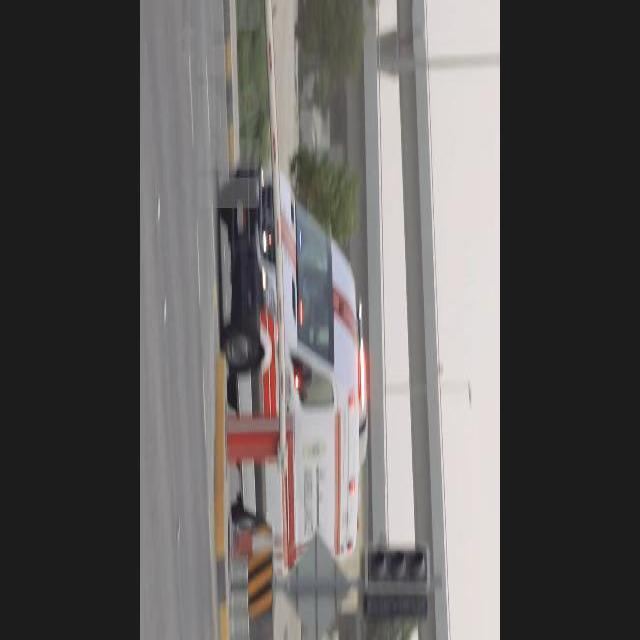emergency-vehicle: (222, 165, 368, 578)
